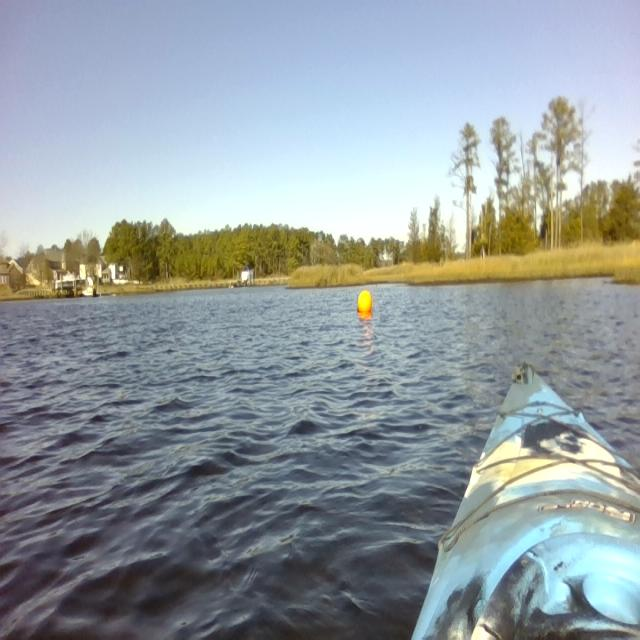Buoy: (352, 284, 377, 323)
